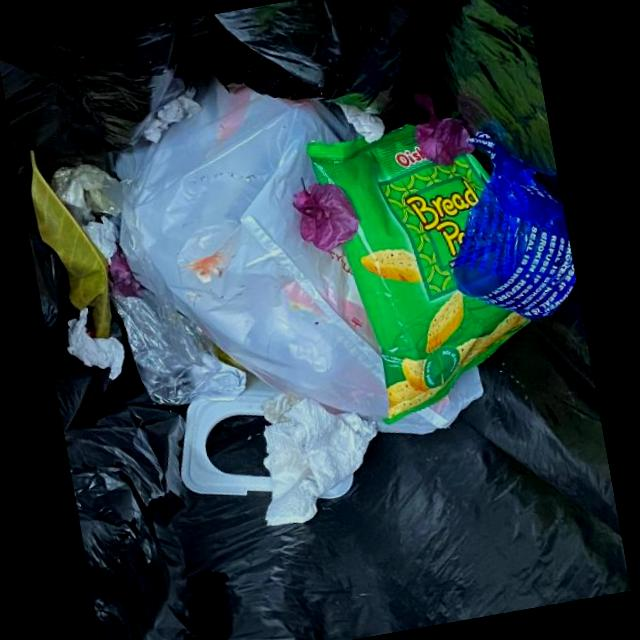bao_bi_thuc_pham: (305, 121, 529, 424), (449, 132, 576, 319)
giay: (258, 390, 378, 526), (64, 306, 124, 379)
la_cay: (26, 150, 113, 338)
tui_ni_long: (118, 79, 483, 432), (111, 286, 247, 405)
